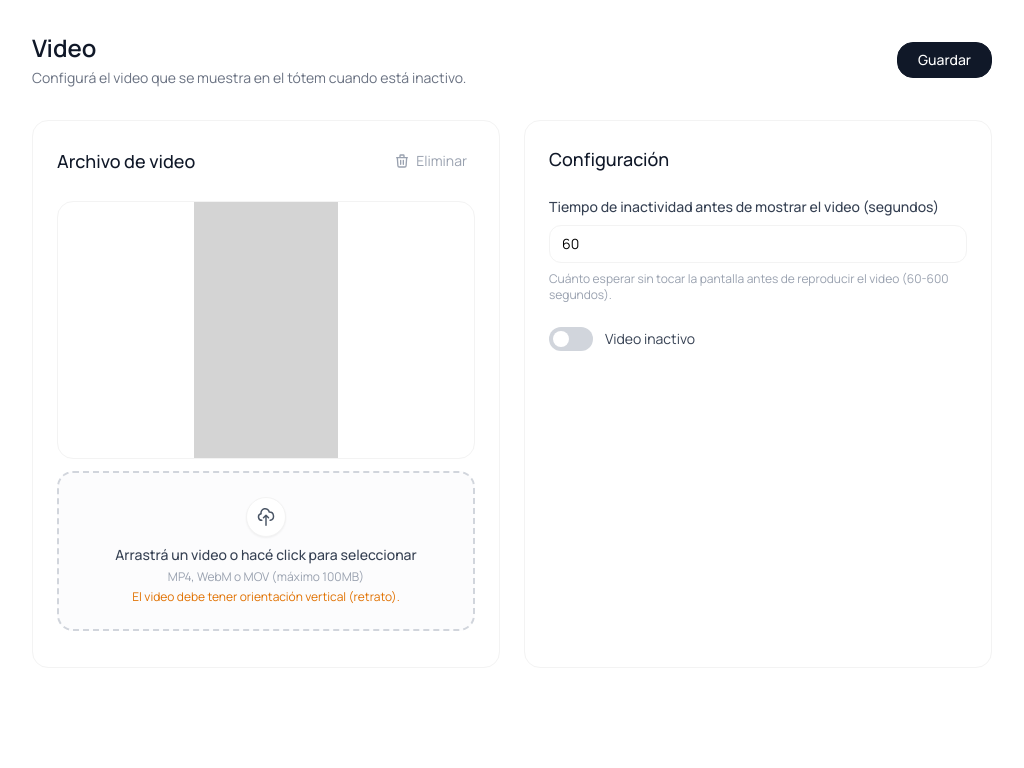
Test: VideoConfigPage › shows delete button and opens confirm modal when video exists
Click the button titled "Eliminar video" at (432, 161), box [388,145,475,177]
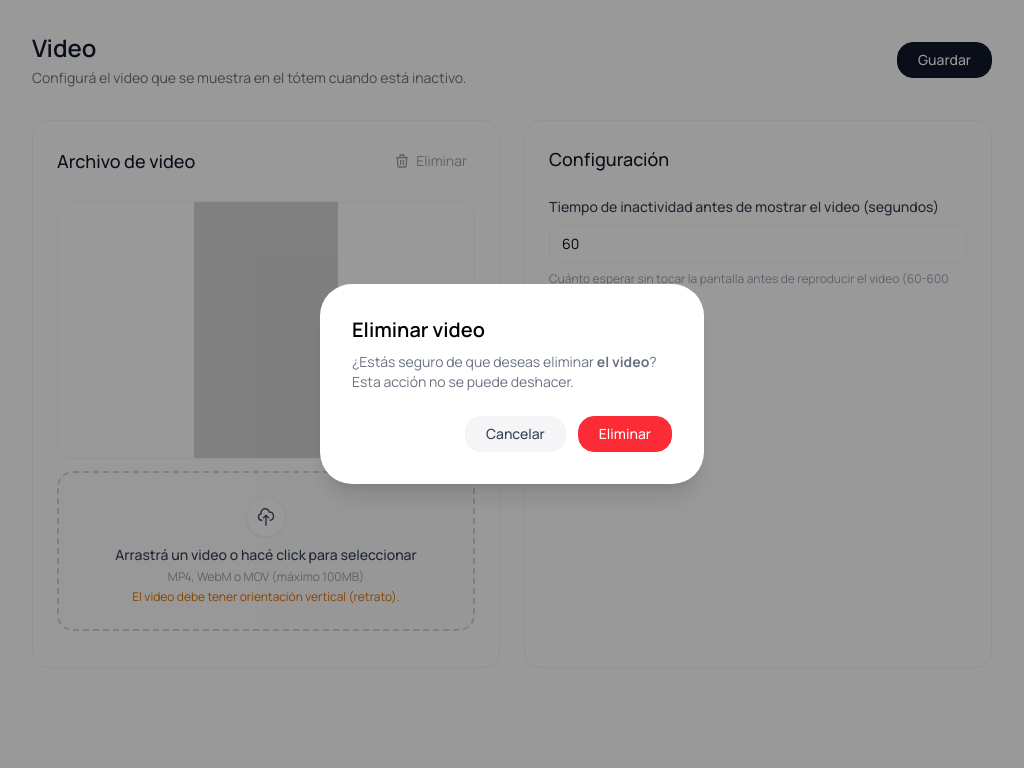
expect the heading "Eliminar video" is shown: met, box [352,316,485,343]
